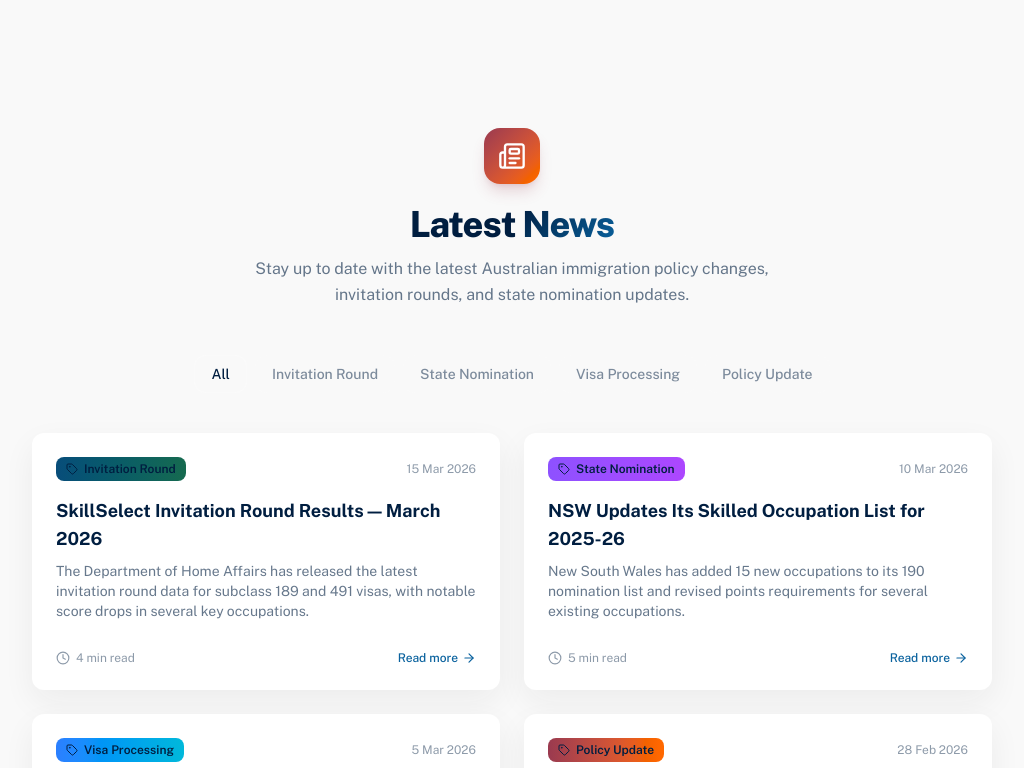
Test case: NewsPage › shows all posts when 'All' filter is clicked
# First filter
Click the button "Visa Processing" at [628, 374], box [559,355,697,393]
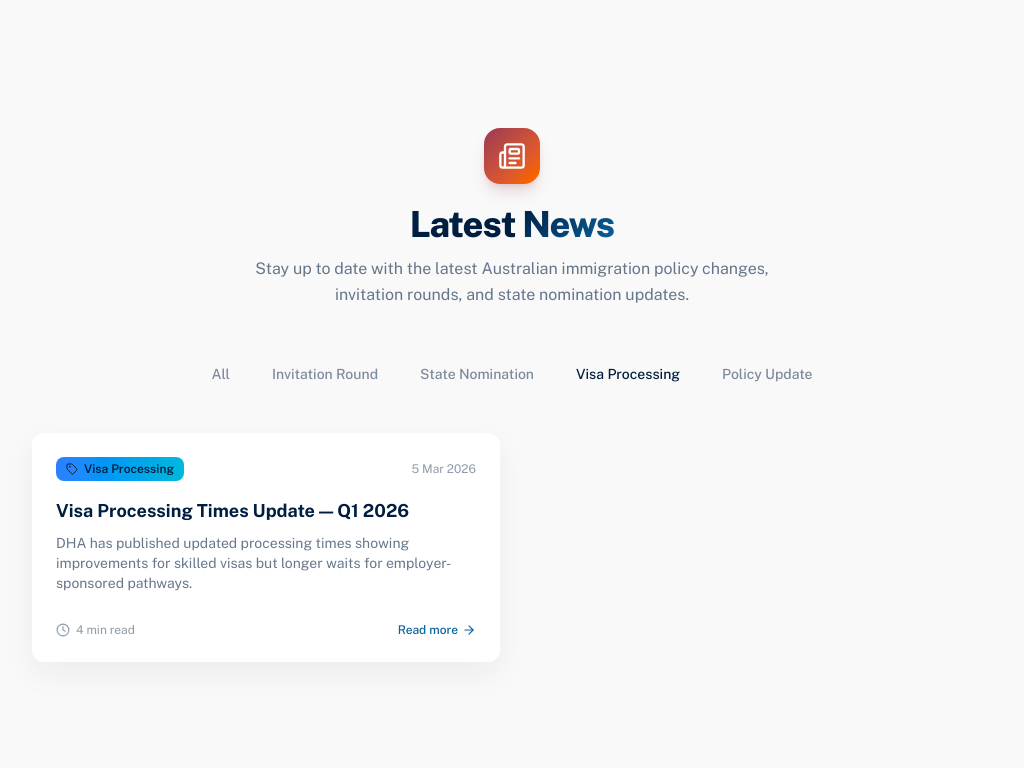
Expected: the link "SkillSelect Invitation Round Results" is gone
# Re-query buttons after state change, then click All
Click the button "All" at [221, 374], box [194,355,247,393]
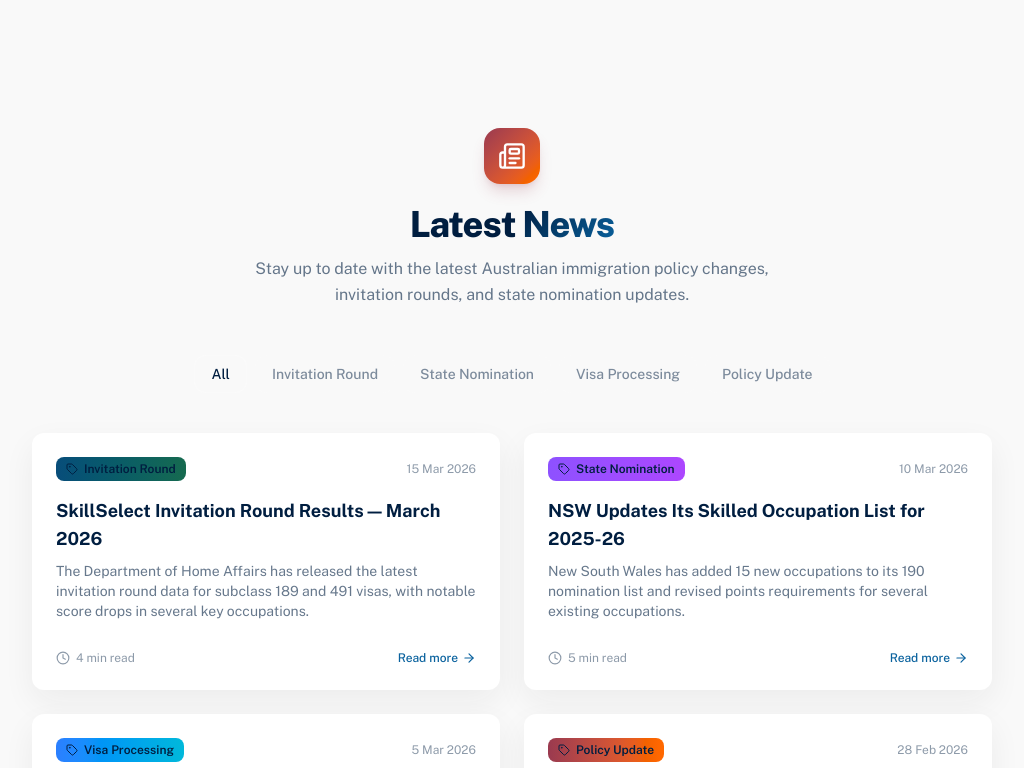
Expected: the heading "SkillSelect Invitation Round Results — March 2026" is shown, [56,497,476,553]
